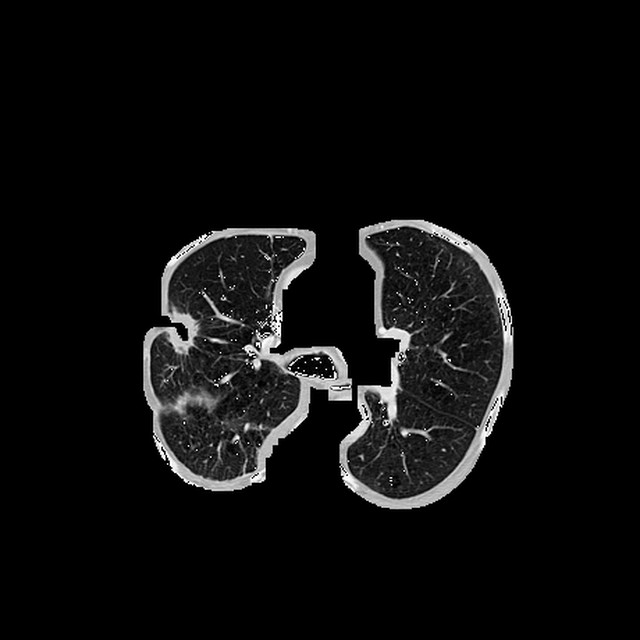PN: (164, 316, 198, 349)
